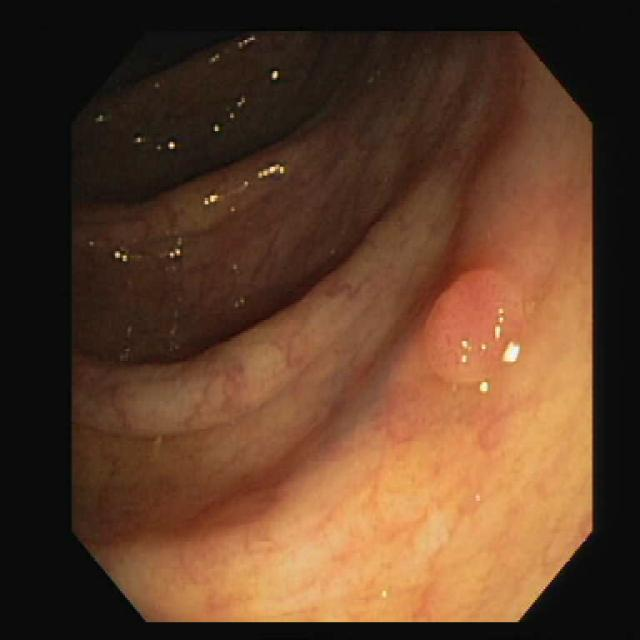tumor: (420, 271, 523, 384)
